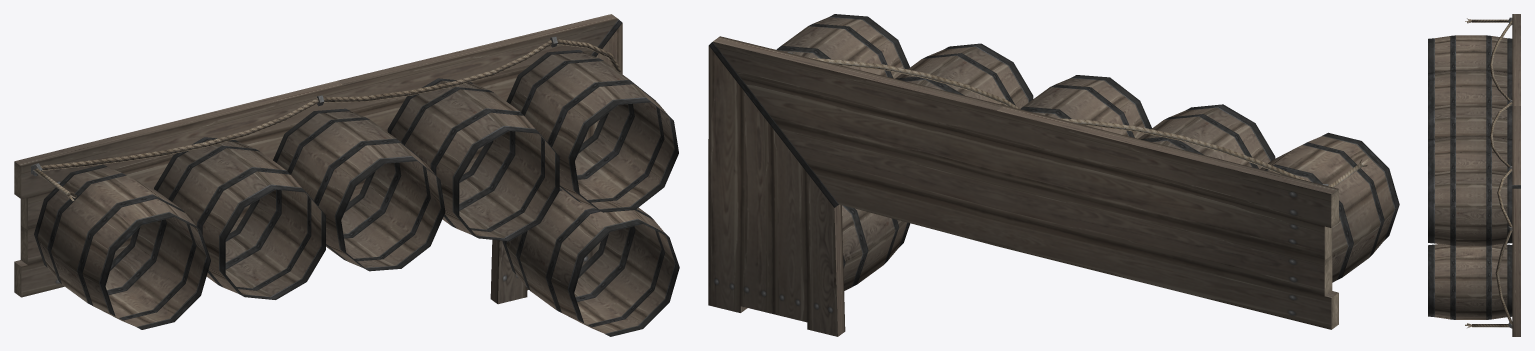
Rendered from BarCorner_B.fbx.
The picture shows the model from 3 angles, left to right: view 1: azimuth 30°, elevation 25°; view 2: azimuth 150°, elevation 25°; view 3: azimuth 270°, elevation 25°; orthographic projection. The views are drawn at different scales.
Parts seen in each view (by area): view 1: BarCorner_B; view 2: BarCorner_B; view 3: BarCorner_B.
Part boxes in pixels (left/top/right/bottom): BarCorner_B: left=14, top=14, right=679, bottom=336; BarCorner_B: left=708, top=14, right=1399, bottom=336; BarCorner_B: left=1428, top=14, right=1520, bottom=336.
Bounding box in the file's own units: 5.22 × 2.12 × 1.18.
